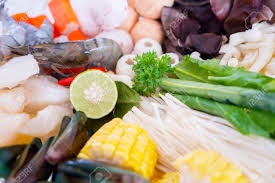Lettuce: (143, 56, 275, 119)
